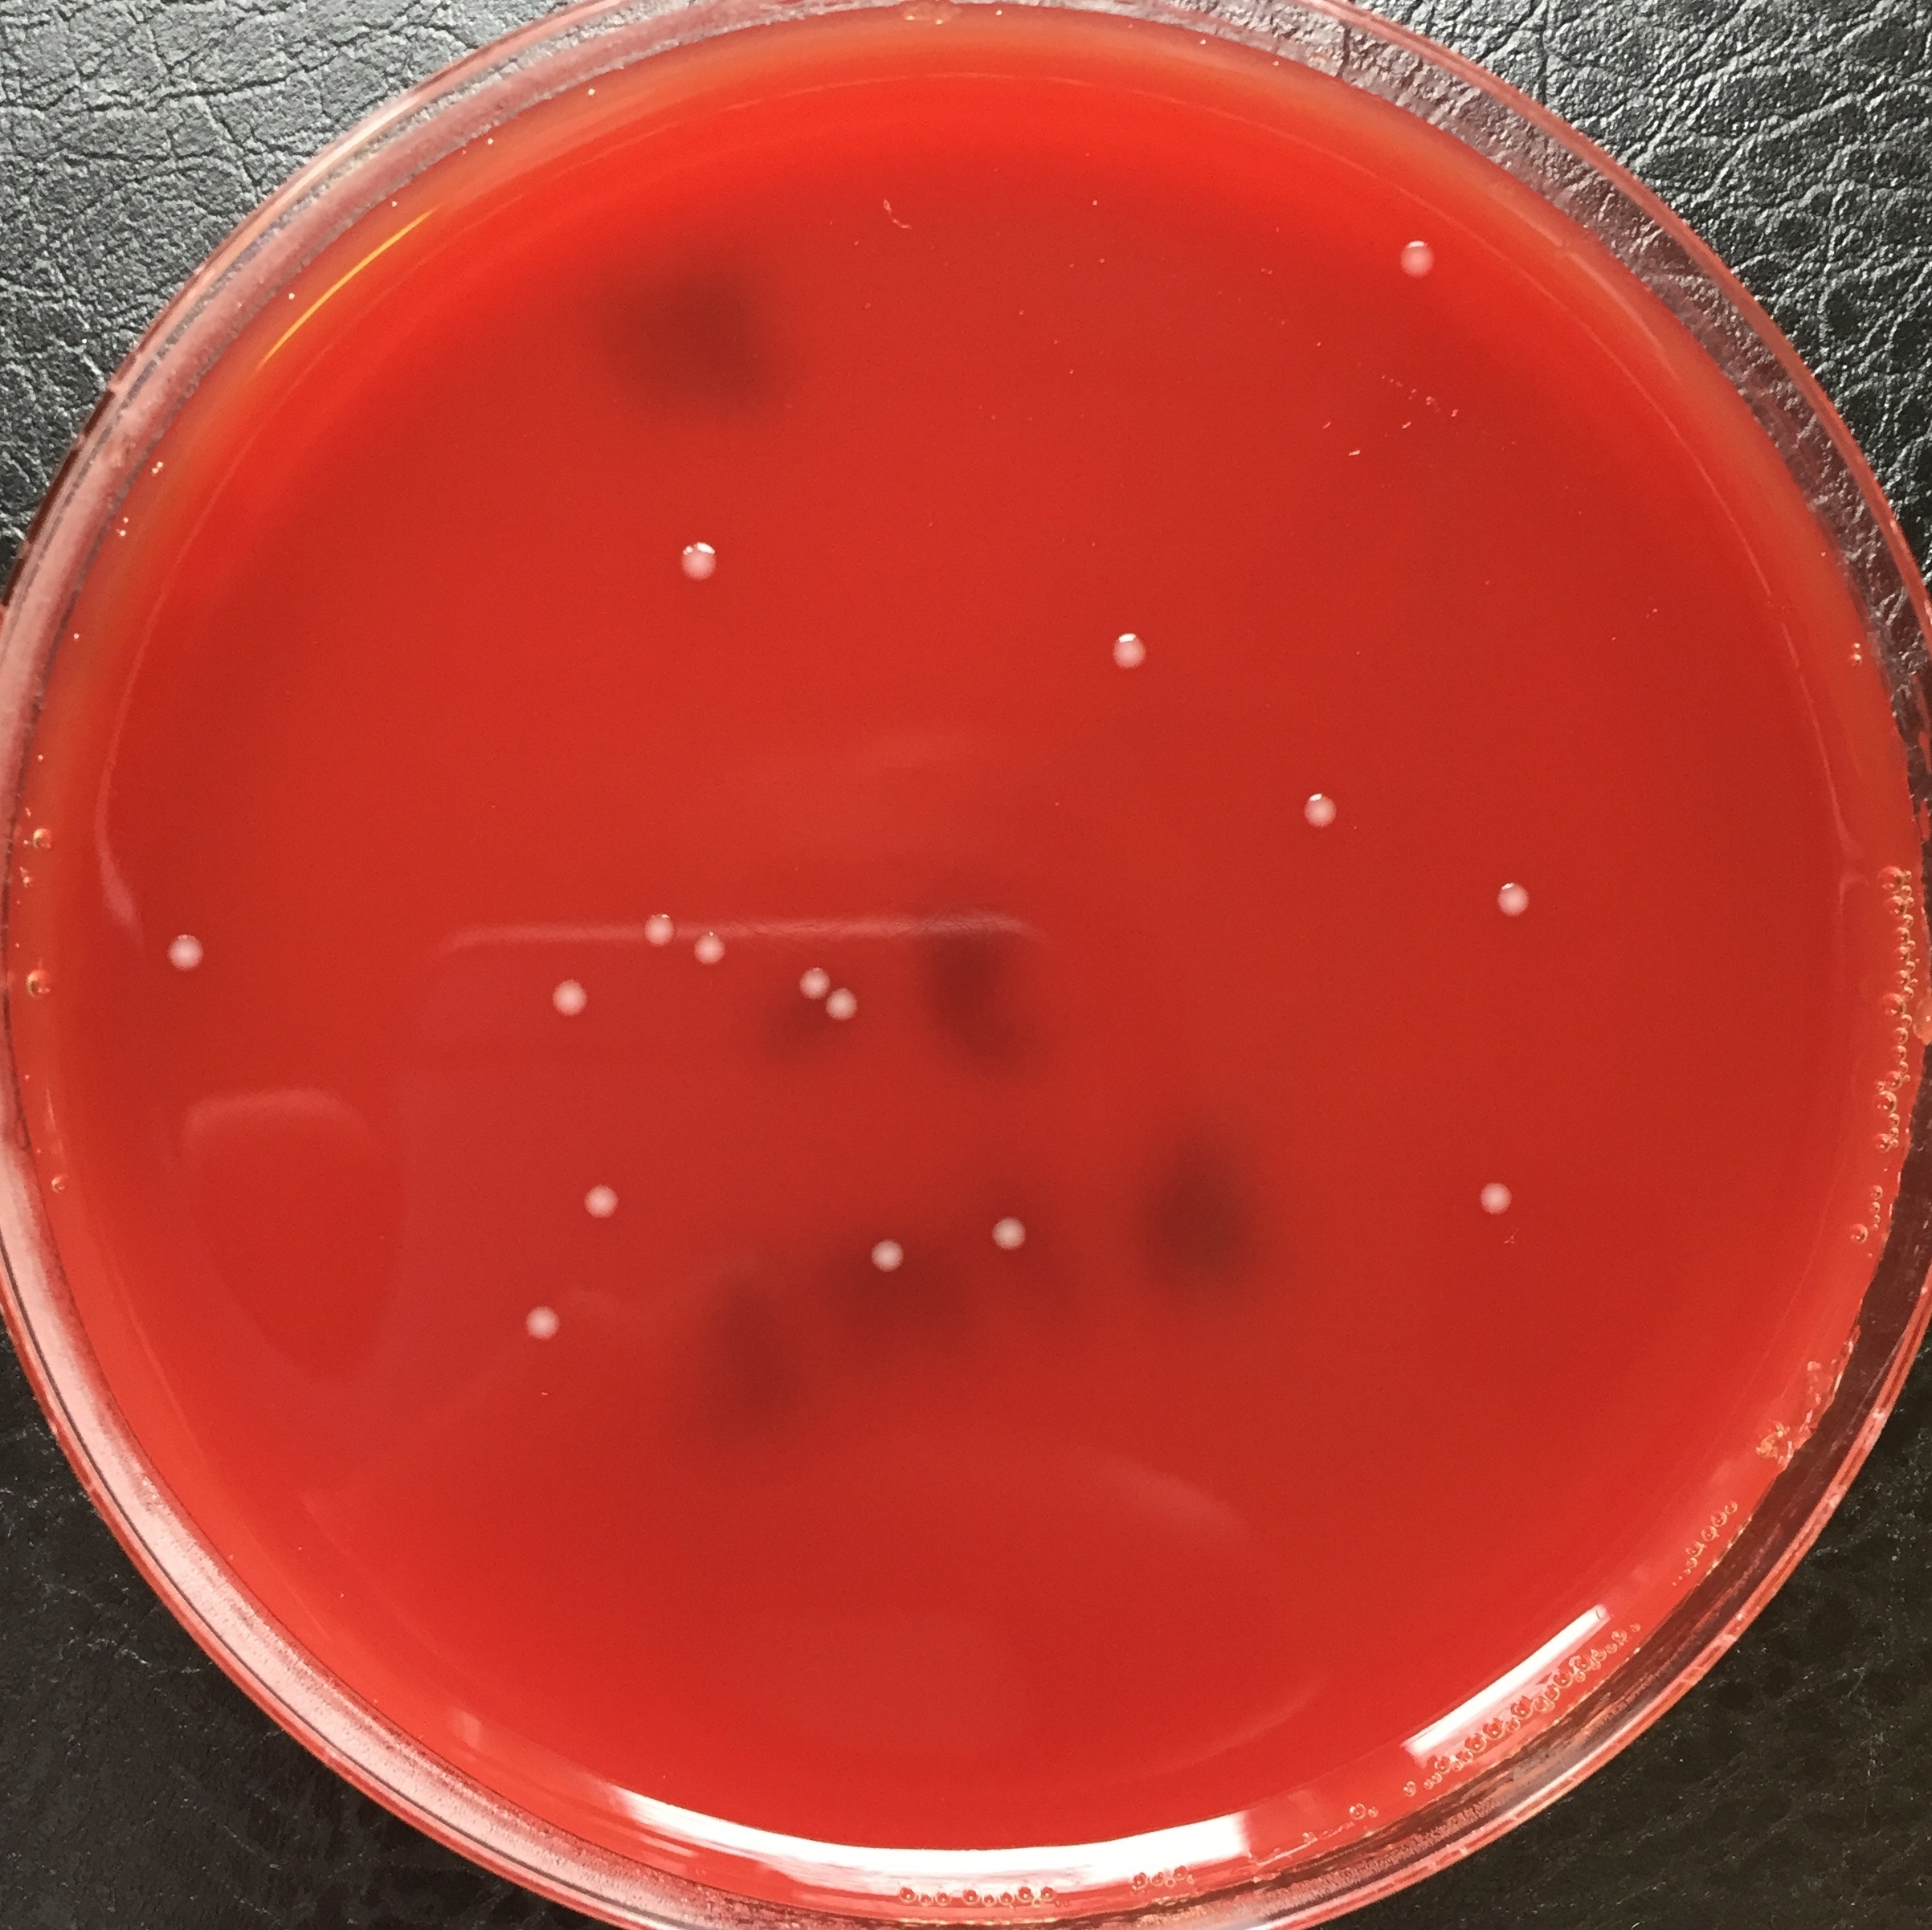sp14: (511, 1287, 576, 1359), (161, 926, 217, 992), (985, 1204, 1039, 1267), (539, 969, 597, 1023), (1389, 232, 1446, 286), (573, 1179, 628, 1235), (1294, 778, 1340, 841), (1105, 620, 1149, 682), (668, 537, 725, 585), (628, 907, 679, 958), (684, 931, 739, 977), (863, 1232, 914, 1280), (1469, 1179, 1520, 1225), (1490, 878, 1534, 926), (824, 986, 868, 1029), (785, 961, 833, 999)
